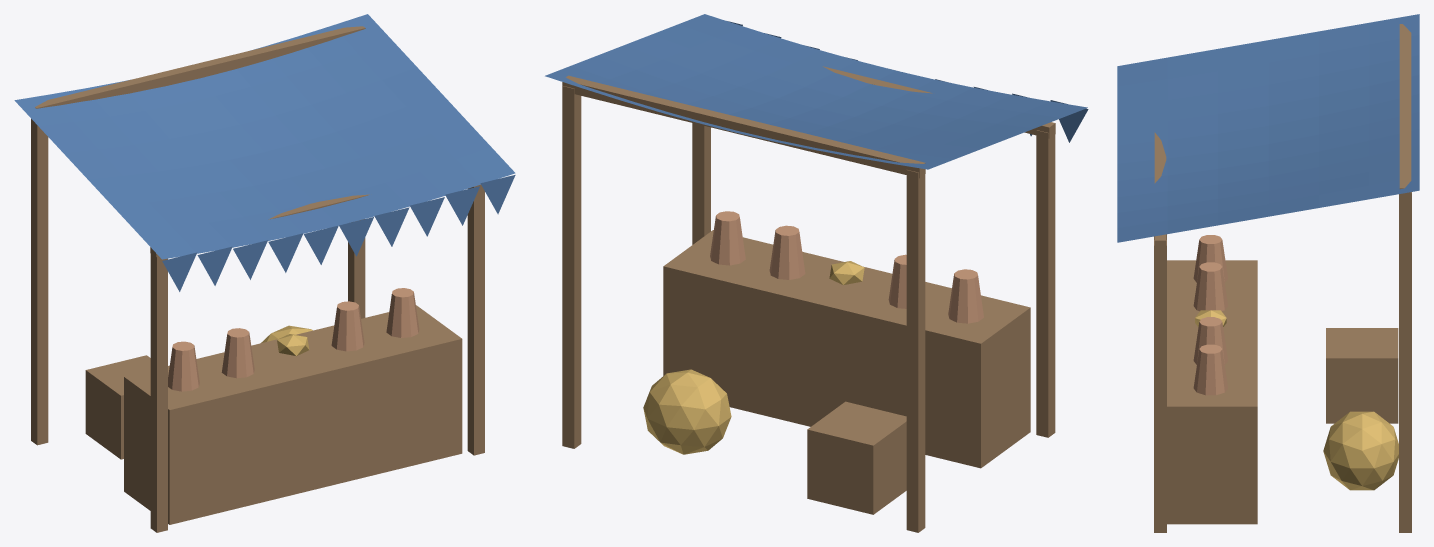
File: SM_DST_Settle_Stall_B.fbx
3 renders of one model, left to right at view 1: azimuth 30°, elevation 25°; view 2: azimuth 150°, elevation 25°; view 3: azimuth 270°, elevation 25°, orthographic. The views are drawn at different scales.
Visible parts, largest first — view 1: SM_DST_Settle_Stall_B; view 2: SM_DST_Settle_Stall_B; view 3: SM_DST_Settle_Stall_B.
Boxes of the visible parts, <box> form: SM_DST_Settle_Stall_B: <box>14,14,515,532</box>; SM_DST_Settle_Stall_B: <box>545,14,1088,532</box>; SM_DST_Settle_Stall_B: <box>1117,14,1419,532</box>.
Bounding box in the file's own units: 2.9 × 2.68 × 2.1.
